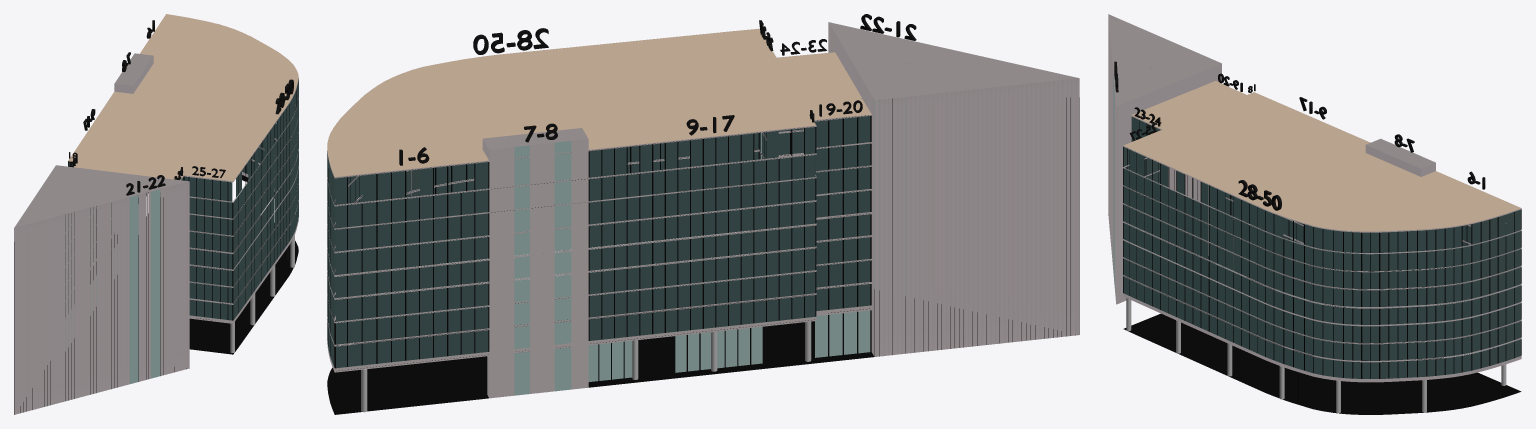
Rendered from 2MoreLondonSite.glb.
3 renders of one model, left to right at view 1: azimuth 30°, elevation 25°; view 2: azimuth 150°, elevation 25°; view 3: azimuth 270°, elevation 25°, orthographic. The views are drawn at different scales.
Parts seen in each view (by area): view 1: Cylinder.005, Drop26, Drop22, Drop27, Drop21, Drop35, Drop33, Drop36, Drop25, Drop30, Drop31, Drop32 (+7 smaller); view 2: Cylinder.005, Drop2, Drop19, Drop20, Drop9, Drop4, Drop3, Drop14, Drop13, Drop8, Drop15, Drop10 (+11 smaller); view 3: Cylinder.005, Drop40, Drop37, Drop44, Drop46, Drop45, Drop43, Drop48, Drop39, Drop41, Drop42, Drop47 (+13 smaller).
Boxes of the visible parts, left/top/right/bottom form: Cylinder.005: left=14, top=14, right=298, bottom=414; Drop26: left=196, top=178, right=219, bottom=318; Drop22: left=151, top=189, right=160, bottom=378; Drop27: left=220, top=181, right=232, bottom=320; Drop21: left=130, top=195, right=138, bottom=383; Drop35: left=277, top=112, right=283, bottom=258; Drop33: left=264, top=130, right=270, bottom=276; Drop36: left=283, top=104, right=289, bottom=249; Drop25: left=184, top=176, right=195, bottom=315; Drop30: left=245, top=158, right=251, bottom=303; Drop31: left=251, top=148, right=257, bottom=294; Drop32: left=258, top=160, right=264, bottom=285; Cylinder.005: left=327, top=22, right=1079, bottom=414; Drop2: left=362, top=172, right=390, bottom=365; Drop19: left=815, top=118, right=842, bottom=310; Drop20: left=844, top=116, right=870, bottom=308; Drop9: left=589, top=148, right=613, bottom=340; Drop4: left=420, top=168, right=446, bottom=359; Drop3: left=392, top=171, right=418, bottom=362; Drop14: left=716, top=135, right=740, bottom=327; Drop13: left=691, top=138, right=715, bottom=329; Drop8: left=554, top=141, right=571, bottom=391; Drop15: left=741, top=133, right=765, bottom=324; Drop10: left=615, top=147, right=639, bottom=338; Cylinder.005: left=1108, top=14, right=1521, bottom=414; Drop40: left=1323, top=229, right=1342, bottom=377; Drop37: left=1265, top=211, right=1283, bottom=363; Drop44: left=1398, top=231, right=1416, bottom=378; Drop46: left=1436, top=227, right=1453, bottom=375; Drop45: left=1418, top=229, right=1435, bottom=377; Drop43: left=1380, top=232, right=1397, bottom=378; Drop48: left=1472, top=220, right=1489, bottom=370; Drop39: left=1305, top=224, right=1322, bottom=375; Drop41: left=1344, top=231, right=1360, bottom=378; Drop42: left=1362, top=232, right=1378, bottom=378; Drop47: left=1454, top=226, right=1471, bottom=373.
Bounding box in the file's own units: 25.58 × 12.44 × 22.05.
